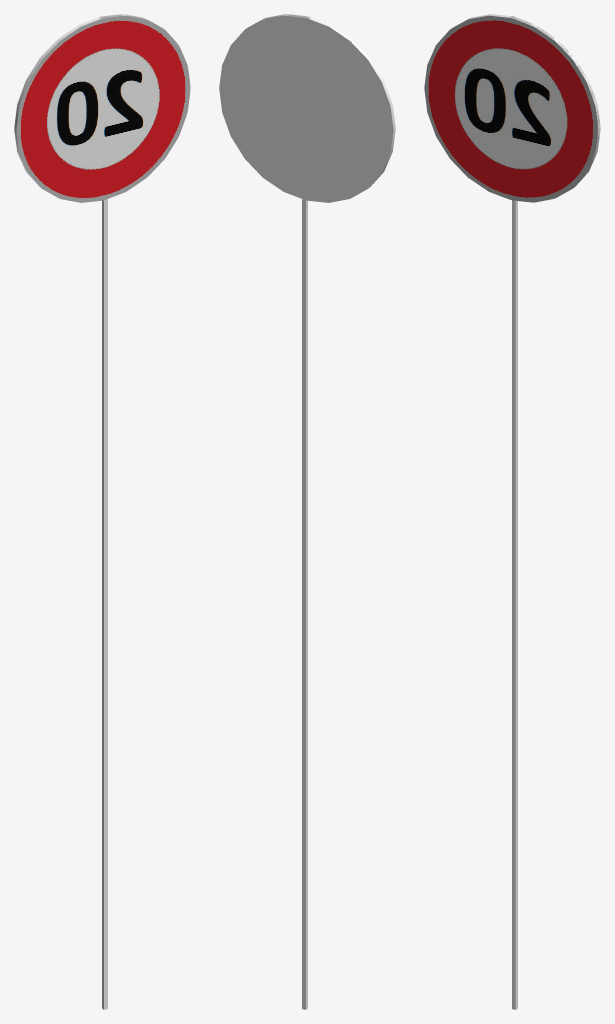
Rendered from trafik_levha_azami_hiz_20.obj.
3 views of the same model, side by side, from view 1: azimuth 30°, elevation 25°; view 2: azimuth 150°, elevation 25°; view 3: azimuth 330°, elevation 25° (orthographic).
Visible parts, largest first — view 1: Mesh2 Group3 Group1 Model, Mesh1 Group2 Group1 Model; view 2: Mesh2 Group3 Group1 Model, Mesh1 Group2 Group1 Model; view 3: Mesh2 Group3 Group1 Model, Mesh1 Group2 Group1 Model.
Part boxes in pixels (bbox=[...]): Mesh2 Group3 Group1 Model: bbox=[14, 14, 190, 202]; Mesh1 Group2 Group1 Model: bbox=[102, 199, 107, 1009]; Mesh2 Group3 Group1 Model: bbox=[219, 14, 395, 202]; Mesh1 Group2 Group1 Model: bbox=[302, 199, 307, 1009]; Mesh2 Group3 Group1 Model: bbox=[424, 14, 600, 202]; Mesh1 Group2 Group1 Model: bbox=[512, 200, 517, 1009].
Bounding box in the file's own units: 451 × 2450 × 10.
3 materials, 1 textured.
